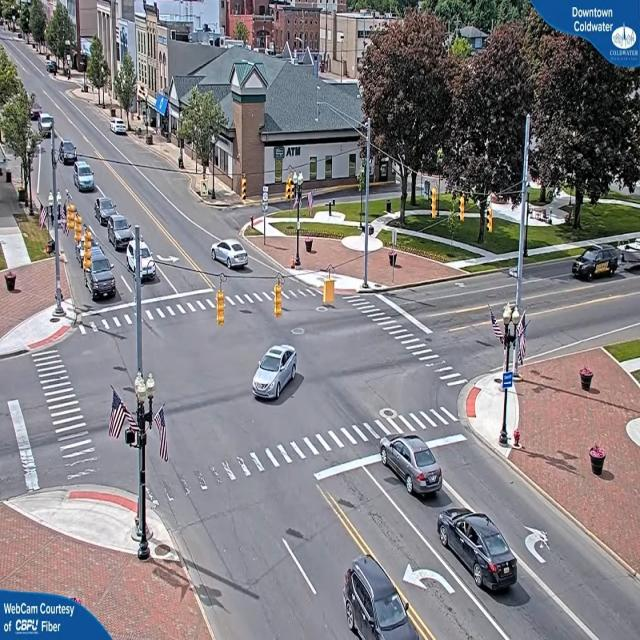car: (436, 510, 520, 594), (344, 557, 418, 640), (379, 434, 444, 500), (254, 345, 302, 403), (572, 245, 621, 280), (84, 248, 118, 297), (212, 240, 248, 272), (106, 215, 136, 251), (76, 160, 98, 192), (96, 198, 119, 225)
